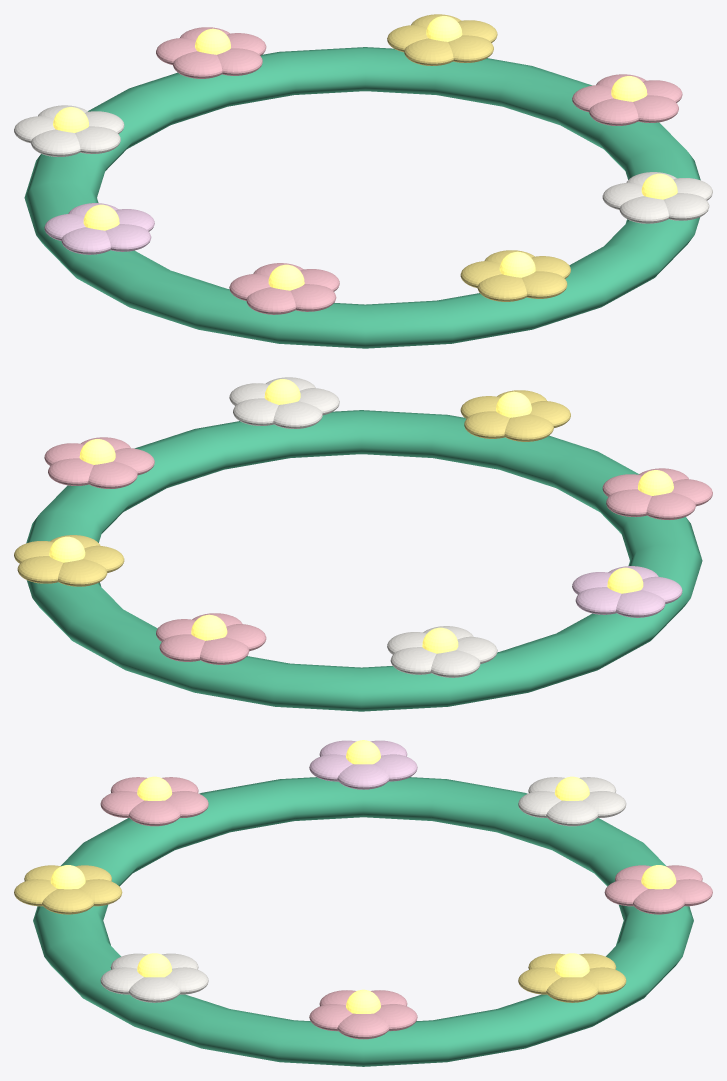
Rendered from crown_flowers.glb.
The picture shows the model from 3 angles, top to bottom: view 1: azimuth 30°, elevation 25°; view 2: azimuth 150°, elevation 25°; view 3: azimuth 270°, elevation 25°; orthographic projection. The views are drawn at different scales.
Parts seen in each view (by area): view 1: Torus, Sphere.033, Sphere.027, Sphere.003, Sphere.045, Sphere.009, Sphere.015, Sphere.039, Sphere.021, Sphere.016, Sphere.004, Sphere.010 (+29 smaller); view 2: Torus, Sphere.020, Sphere.026, Sphere.002, Sphere.008, Sphere.044, Sphere.014, Sphere.038, Sphere.032, Sphere.037, Sphere.001, Sphere.007 (+29 smaller); view 3: Torus, Sphere.024, Sphere.006, Sphere.042, Sphere, Sphere.018, Sphere.030, Sphere.012, Sphere.036, Sphere.007, Sphere.046, Sphere.010 (+21 smaller).
Boxes of the visible parts, x1=… form: Torus: x1=24, y1=47, x2=700, y2=348; Sphere.033: x1=246, y1=287, x2=295, y2=314; Sphere.027: x1=61, y1=227, x2=110, y2=254; Sphere.003: x1=589, y1=98, x2=638, y2=125; Sphere.045: x1=619, y1=196, x2=668, y2=223; Sphere.009: x1=404, y1=38, x2=453, y2=65; Sphere.015: x1=173, y1=51, x2=222, y2=78; Sphere.039: x1=477, y1=274, x2=526, y2=301; Sphere.021: x1=31, y1=129, x2=80, y2=156; Sphere.016: x1=217, y1=48, x2=262, y2=75; Sphere.004: x1=633, y1=95, x2=678, y2=122; Sphere.010: x1=448, y1=35, x2=493, y2=62; Torus: x1=26, y1=410, x2=702, y2=711; Sphere.020: x1=431, y1=650, x2=480, y2=677; Sphere.026: x1=616, y1=590, x2=665, y2=617; Sphere.002: x1=88, y1=461, x2=137, y2=488; Sphere.008: x1=58, y1=559, x2=107, y2=586; Sphere.044: x1=273, y1=401, x2=322, y2=428; Sphere.014: x1=200, y1=637, x2=249, y2=664; Sphere.038: x1=504, y1=414, x2=553, y2=441; Sphere.032: x1=646, y1=492, x2=695, y2=519; Sphere.037: x1=464, y1=411, x2=509, y2=438; Sphere.001: x1=48, y1=458, x2=93, y2=485; Sphere.007: x1=17, y1=556, x2=63, y2=583; Torus: x1=33, y1=777, x2=693, y2=1066; Sphere.024: x1=337, y1=764, x2=389, y2=789; Sphere.006: x1=546, y1=977, x2=598, y2=1002; Sphere.042: x1=128, y1=977, x2=180, y2=1002; Sphere: x1=337, y1=1013, x2=389, y2=1039; Sphere.018: x1=546, y1=800, x2=598, y2=826; Sphere.030: x1=128, y1=800, x2=180, y2=826; Sphere.012: x1=633, y1=889, x2=684, y2=914; Sphere.036: x1=42, y1=889, x2=93, y2=914; Sphere.007: x1=583, y1=967, x2=626, y2=994; Sphere.046: x1=100, y1=967, x2=143, y2=994; Sphere.010: x1=518, y1=967, x2=561, y2=994.
Bounding box in the file's own units: 0.9904 × 0.1088 × 0.9941.
